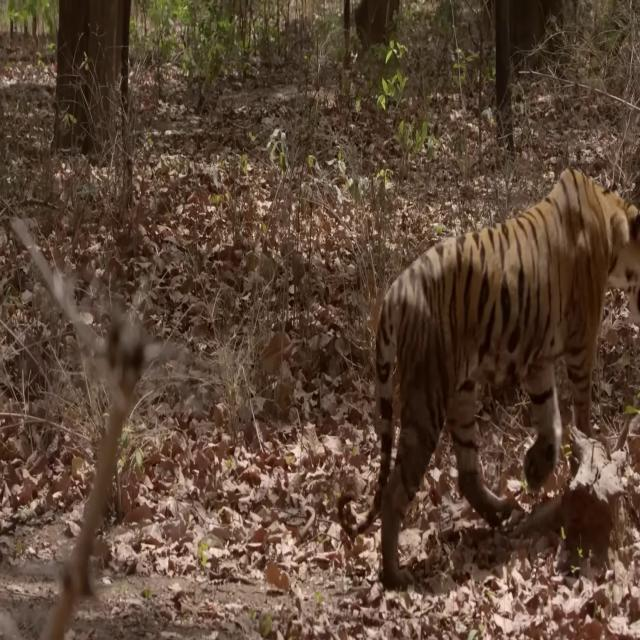tiger: (338, 168, 640, 590)
